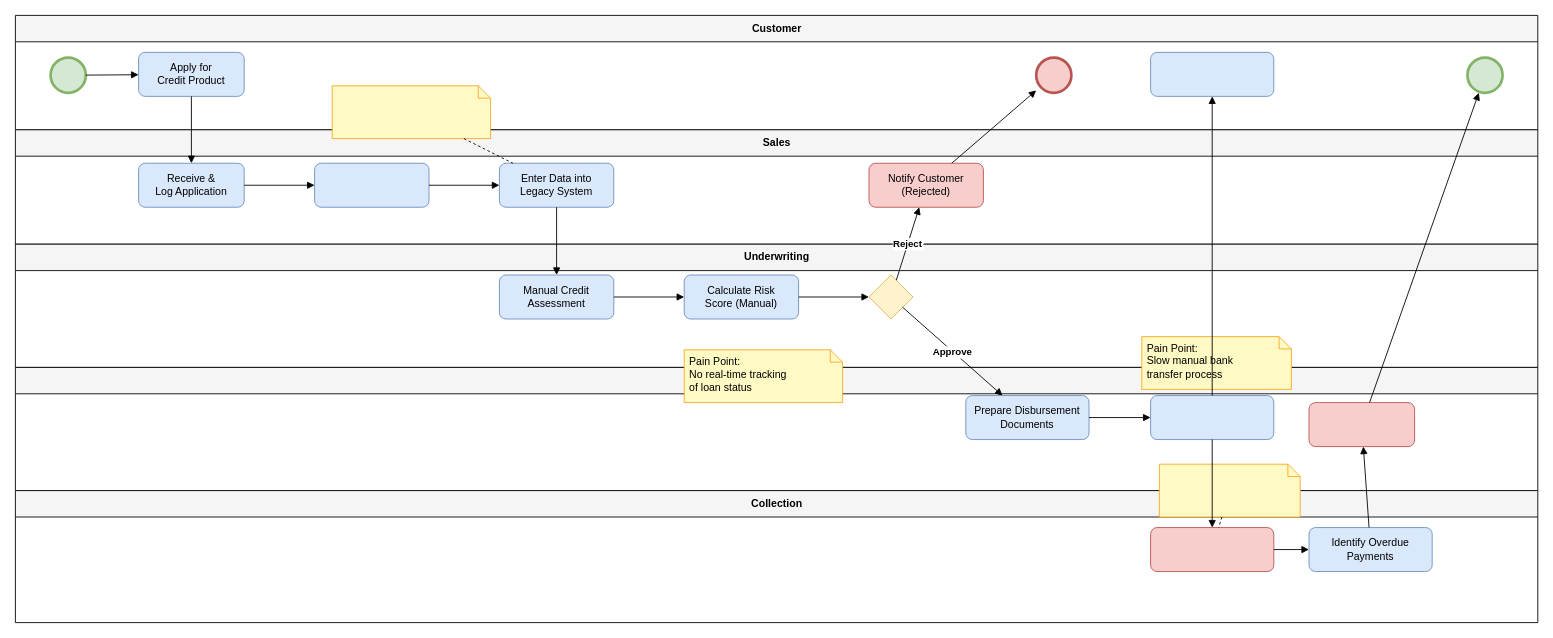
Image size: 1553x638. Some labels were removed from this diagram. Each missing label, with the centre of its shape:
"Collect Required Documents" goes at point 371,184.
"Execute Manual Bank Transfer" goes at point 1212,417.
"Pain Point: Delayed collection follow-up" goes at point 1229,490.
"Pain Point: Manual data entry causes errors" goes at point 411,112.
"Phone Call Follow-up" goes at point 1361,424.
"Receive Funds in Bank Account" goes at point 1212,73.
"Track Repayments (Spreadsheets)" goes at point 1212,549.
